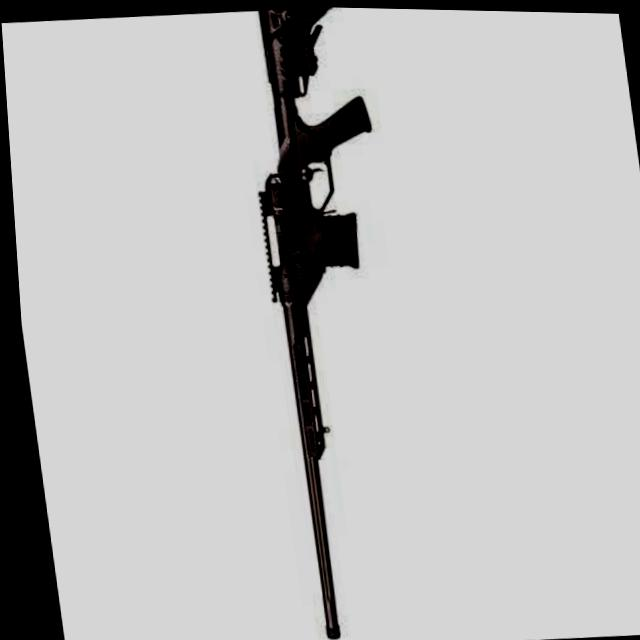rifle: (201, 4, 457, 640)
